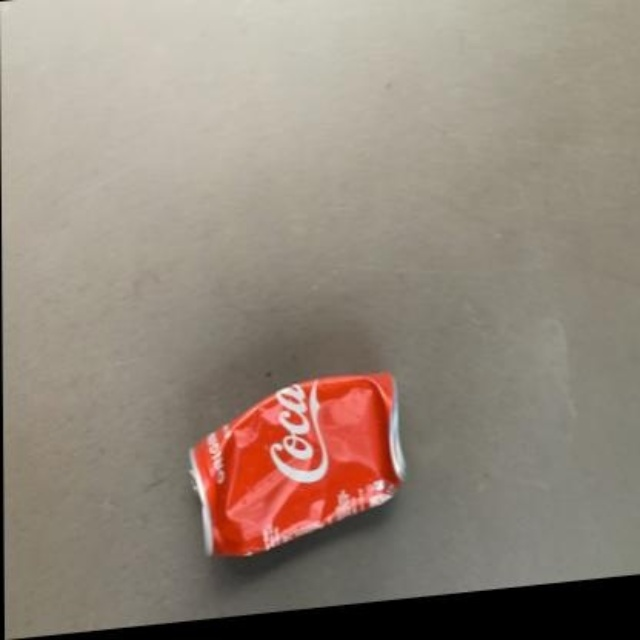trash: (189, 374, 403, 555)
